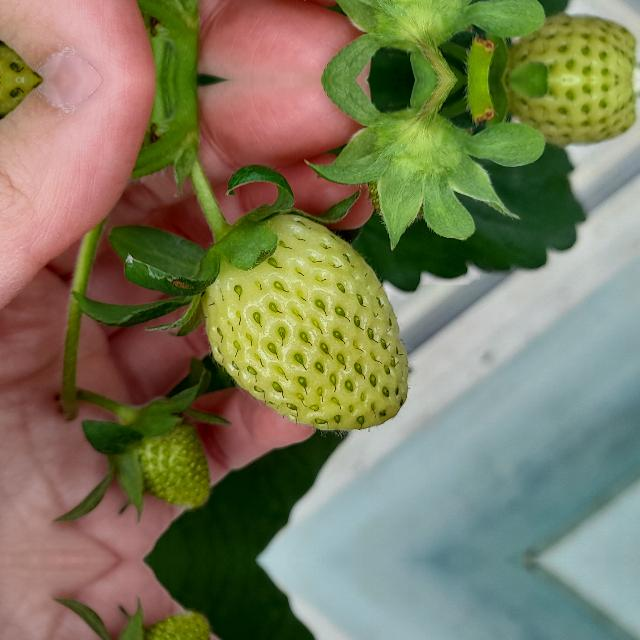Health_25: (200, 214, 410, 431)
